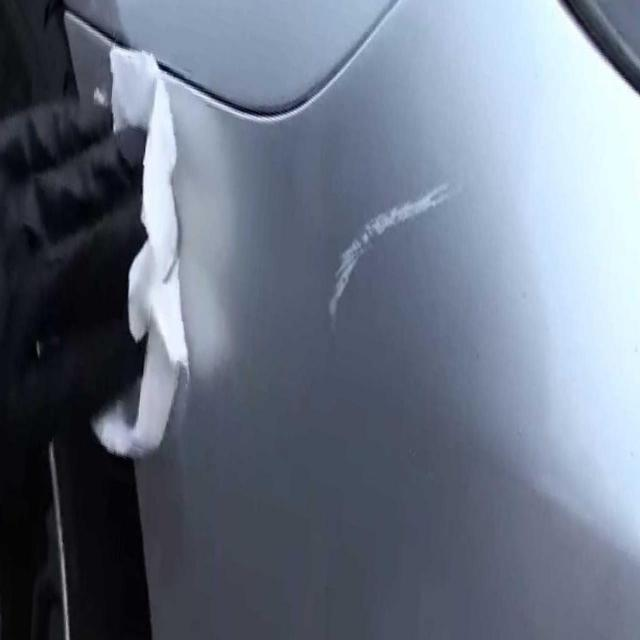scratch: (326, 169, 452, 337)
